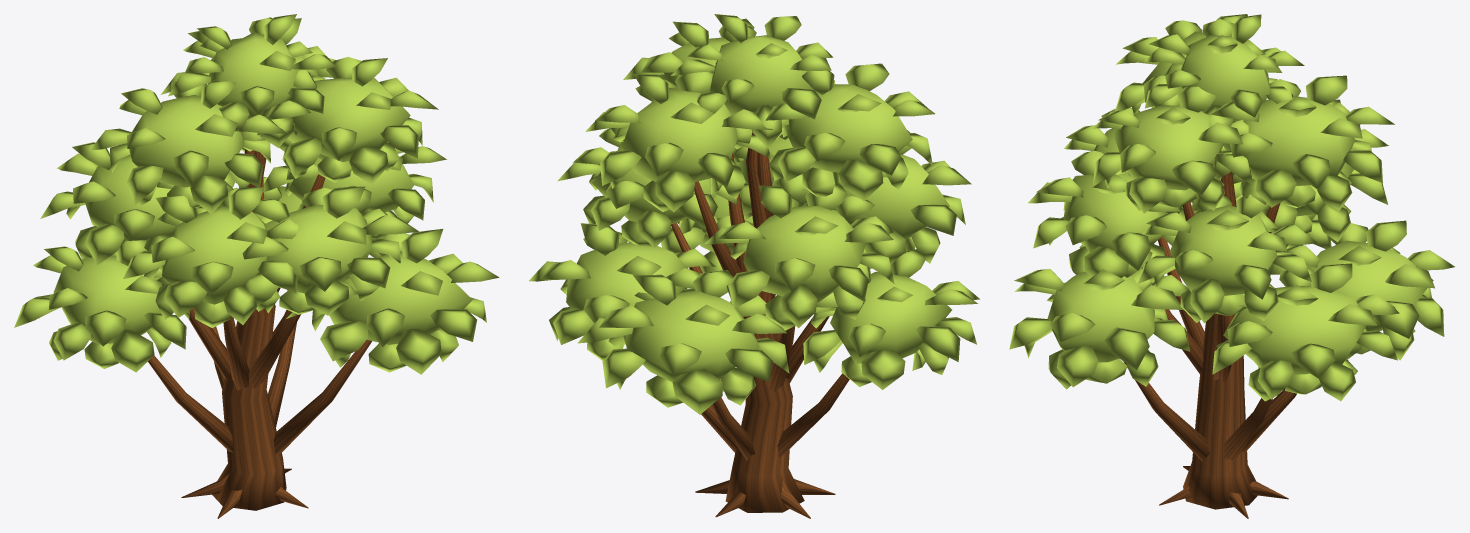
Rendered from SpreadingOak_LOD1.glb.
The picture shows the model from 3 angles, left to right: view 1: azimuth 30°, elevation 25°; view 2: azimuth 150°, elevation 25°; view 3: azimuth 270°, elevation 25°; orthographic projection.
Visible parts, largest first — view 1: SM_SpreadingOak_Foliage_LOD1, SM_SpreadingOak_Bark_LOD1; view 2: SM_SpreadingOak_Foliage_LOD1, SM_SpreadingOak_Bark_LOD1; view 3: SM_SpreadingOak_Foliage_LOD1, SM_SpreadingOak_Bark_LOD1.
Part boxes in pixels (<box>): SM_SpreadingOak_Foliage_LOD1: <box>14,14,499,374</box>; SM_SpreadingOak_Bark_LOD1: <box>148,149,372,518</box>; SM_SpreadingOak_Foliage_LOD1: <box>529,14,979,414</box>; SM_SpreadingOak_Bark_LOD1: <box>671,132,849,518</box>; SM_SpreadingOak_Foliage_LOD1: <box>1009,14,1454,401</box>; SM_SpreadingOak_Bark_LOD1: <box>1123,151,1296,518</box>.
Bounding box in the file's own units: 6.93 × 7.75 × 6.67.
2 materials, 1 textured.
